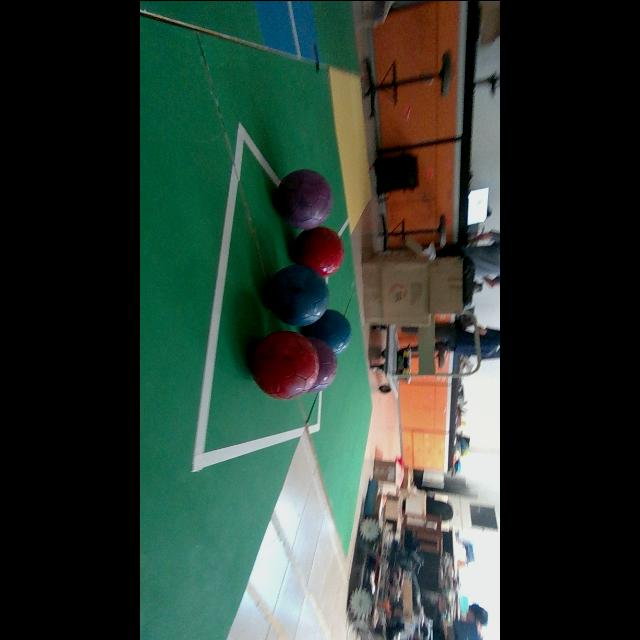B: (266, 263, 329, 325), (303, 309, 351, 354)
P: (275, 169, 333, 229), (308, 336, 338, 392)
R: (250, 329, 320, 399), (292, 226, 344, 276)
